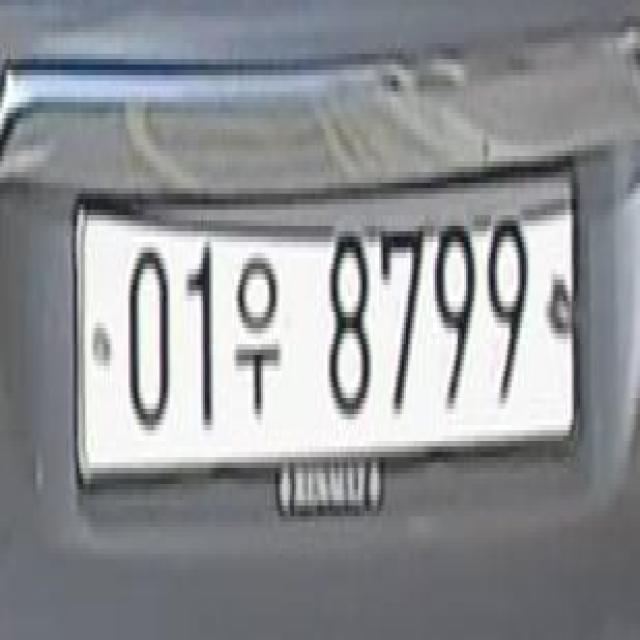illegal_plate: (71, 154, 594, 524)
